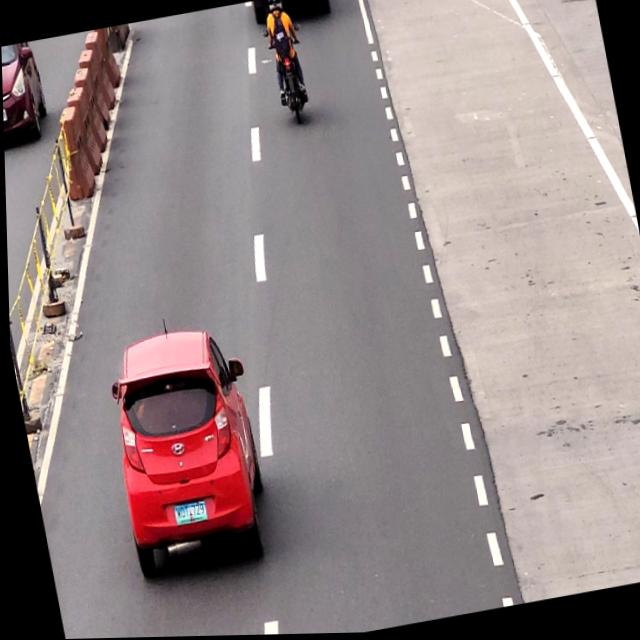Car: (95, 319, 277, 579)
License-Plate: (169, 498, 207, 529)
Motorcycle: (263, 0, 313, 134)
